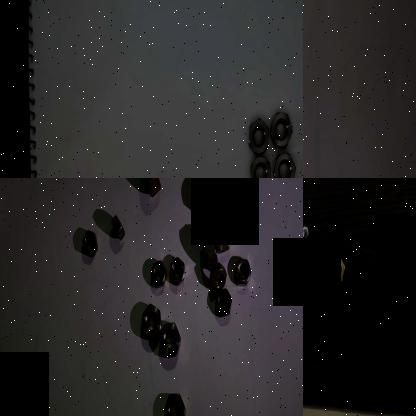Bolts: (325, 250, 351, 288), (303, 222, 310, 242)
NUTS: (138, 301, 164, 344), (246, 113, 272, 155), (156, 318, 182, 359), (270, 110, 294, 150), (190, 178, 214, 218), (232, 192, 254, 232), (271, 148, 299, 178), (213, 287, 235, 323), (107, 211, 128, 248), (248, 147, 273, 178), (214, 215, 233, 255), (200, 230, 219, 270), (209, 261, 230, 297), (161, 389, 189, 416), (148, 260, 169, 292), (80, 228, 99, 262), (170, 255, 187, 290), (234, 256, 252, 289), (140, 178, 164, 201)
